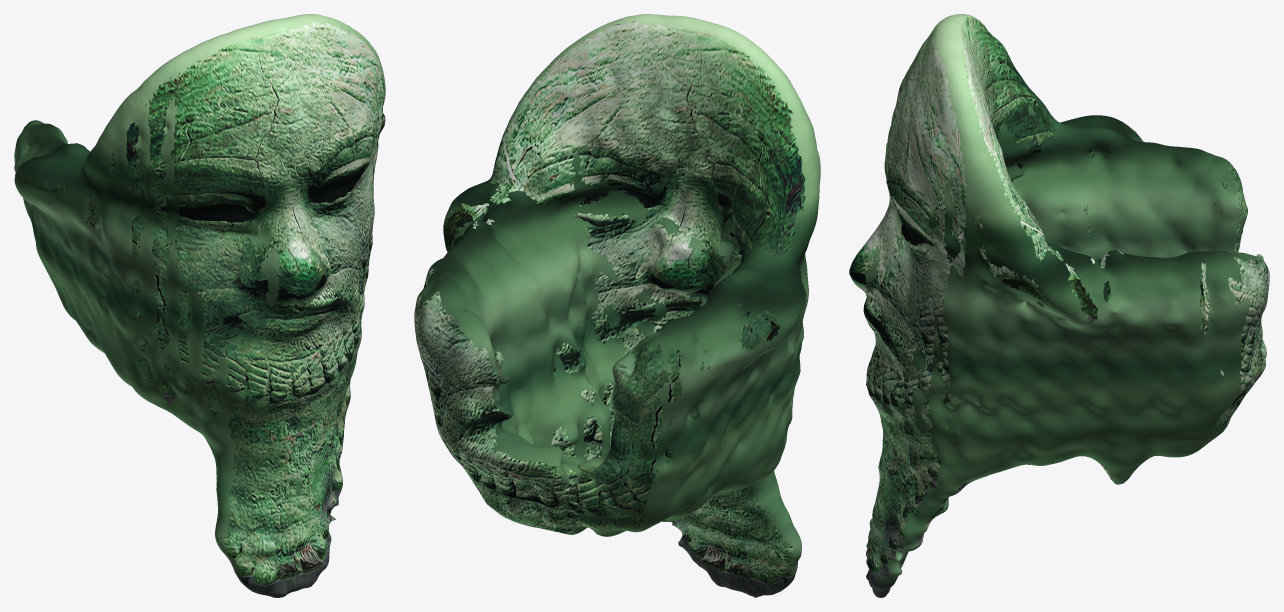
Rendered from ane-11.glb.
The picture shows the model from 3 angles, left to right: view 1: azimuth 30°, elevation 25°; view 2: azimuth 150°, elevation 25°; view 3: azimuth 270°, elevation 25°; orthographic projection. The views are drawn at different scales.
Visible parts, largest first — view 1: ane-11; view 2: ane-11; view 3: ane-11.
Part boxes in pixels (left/top/right/bottom): ane-11: left=14, top=14, right=385, bottom=597; ane-11: left=414, top=14, right=820, bottom=597; ane-11: left=849, top=14, right=1269, bottom=597.
Size of the model in its own units: 0.6493 by 0.9954 by 0.6752.
4 materials, 4 textured.
